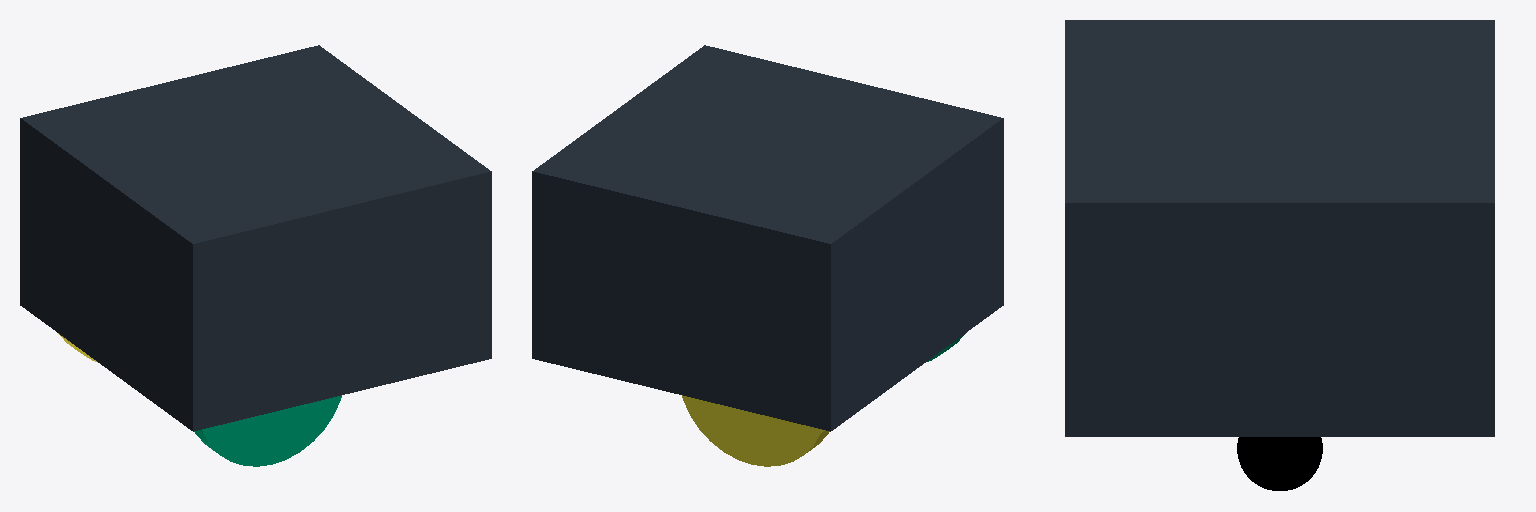
URDF robot description (g_robot):
<?xml version="1.0"?>
<robot name="g_robot" xmlns:xacro="http://www.ros.org/wiki/xacro">
    <material name="black">
        <color rgba="0.0 0.0 0.0 1.0" />
    </material>
    <material name="blue">
        <color rgba="0.203125 0.23828125 0.28515625 1.0" />
    </material>
    <material name="green">
        <color rgba="0.0 0.8 0.0 1.0" />
    </material>
    <material name="grey">
        <color rgba="0.2 0.2 0.2 1.0" />
    </material>
    <material name="orange">
        <color rgba="1.0 0.423529411765 0.0392156862745 1.0" />
    </material>
    <material name="brown">
        <color rgba="0.870588235294 0.811764705882 0.764705882353 1.0" />
    </material>
    <material name="red">
        <color rgba="0.80078125 0.12890625 0.1328125 1.0" />
    </material>
    <material name="white">
        <color rgba="1.0 1.0 1.0 1.0" />
    </material>

    <gazebo reference="chassis_link">
        <material>Gazebo/Orange</material>
    </gazebo>
    <gazebo reference="left_wheel_link">
        <material>Gazebo/Blue</material>
    </gazebo>
    <gazebo reference="right_wheel_link">
        <material>Gazebo/Blue</material>
    </gazebo>
    <gazebo reference="caster_link">
      <material>Gazebo/Black</material>
  </gazebo>

  <gazebo>
      <plugin name="gazebo_ros_control" filename="libgazebo_ros_control.so" />
  </gazebo>

    <!-- TODO: reduce drift -->

    <link name="chassis_link">
        <!-- pose and inertial -->
        <inertial>
            <mass value="10" />
            <origin rpy="0 0 0" xyz="0 0 0.1" />
            <inertia ixx="0.159375" ixy="0" ixz="0" iyy="0.159375" iyz="0" izz="0.234375" />
        </inertial>
        <!-- body -->
        <collision name="collision_chassis">
            <origin rpy="0 0 0" xyz="0 0 0.1" />
            <geometry>
                <box size="0.5 0.5 0.3" />  
            </geometry>
        </collision>
        <visual>
            <origin rpy="0 0 0" xyz="0 0 0.1" />
            <geometry>
                <box size="0.5 0.5 0.3" />
            </geometry>
            <material name="blue" />
        </visual>
    </link>

    <link name="caster_link">
        <inertial>
            <mass value="5" />
            <origin rpy="0 0 0" xyz="0 0 0" />
            <inertia ixx="0.0000382725" ixy="0" ixz="0" iyy="0.0000382725" iyz="0" izz="0.00003815025" />
        </inertial>
        <collision name="caster_collision">
            <origin rpy="0 0 0" xyz="0 0 0" />
            <geometry>
                <sphere radius="0.05" />
            </geometry>
            <surface>
                <friction>
                    <ode>
                        <mu>0</mu>
                        <mu2>0</mu2>
                        <slip1>1.0</slip1>
                        <slip2>1.0</slip2>
                    </ode>
                </friction>
            </surface>
        </collision>
        <visual name="caster_visual">
            <origin rpy="0 0 0" xyz="0 0 0" />
            <geometry>
                <sphere radius="0.05" />
            </geometry>
            <material name="black" />
        </visual>
    </link>

    <joint name="caster_joint" type="fixed">
        <parent link="caster_link" />
        <child link="chassis_link" />
        <origin rpy="0 0 0" xyz="-0.175 0 0.1" />
    </joint>

    <link name="right_wheel_link">
        <inertial>
            <mass value="1" />
            <origin rpy="0 0 0" xyz="0 0 0" />
            <inertia ixx="0.006" ixy="0" ixz="0" iyy="0.01125" iyz="0" izz="0.006" />
        </inertial>
        <collision name="right_wheel_link_collision">
            <origin rpy="0 1.5708 1.5708" xyz="0 0 0" />
            <geometry>
                <cylinder length="0.04" radius="0.125" />
            </geometry>
        </collision>
        <visual name="right_wheel_link_visual">
            <origin rpy="0 1.5708 1.5708" xyz="0 0 0" />
            <geometry>
                <cylinder length="0.04" radius="0.125" />
            </geometry>
        </visual>
    </link>

    <joint name="right_wheel_joint" type="continuous">
        <origin rpy="0 0 0" xyz="-0.1 -0.2 -0.025" />
        <child link="right_wheel_link" />
        <parent link="chassis_link" />
        <axis rpy="0 0 0" xyz="0 1 0" />
        <limit effort="10000" velocity="1000" />
        <joint_properties damping="1.0" friction="1.0" />
    </joint>

    <transmission name="right_wheel_transimssion">
        <type>transmission_interface/SimpleTransmission</type>
        <joint name="right_wheel_joint" >
            <hardwareInterface>hardware_interface/VelocityJointInterface</hardwareInterface>
        </joint>
        <actuator name="right_wheel_actuator">
            <mechanicalReduction>7</mechanicalReduction>
            <hardwareInterface>VelocityJointInterface</hardwareInterface>
        </actuator>
    </transmission>

    <link name="left_wheel_joint">
        <inertial>
            <mass value="1" />
            <origin rpy="0 0 0" xyz="0 0 0" />
            <inertia ixx="0.006" ixy="0" ixz="0" iyy="0.01125" iyz="0" izz="0.006" />
        </inertial>
        <collision name="left_wheel_joint_collision">
            <origin rpy="0 1.5708 1.5708" xyz="0 0 0" />
            <geometry>
                <cylinder length="0.04" radius="0.125" />
            </geometry>
        </collision>
        <visual name="left_wheel_joint_visual">
            <origin rpy="0 1.5708 1.5708" xyz="0 0 0" />
            <geometry>
                <cylinder length="0.04" radius="0.125" />
            </geometry>
        </visual>
    </link>

    <joint name="left_wheel_joint" type="continuous">
        <origin rpy="0 0 0" xyz="-0.1 0.2 -0.025" />
        <child link="left_wheel_joint" />
        <parent link="chassis_link" />
        <axis rpy="0 0 0" xyz="0 1 0" />
        <limit effort="10000" velocity="1000" />
        <joint_properties damping="1.0" friction="1.0" />
    </joint>

    <transmission name="left_wheel_transimssion">
        <type>transmission_interface/SimpleTransmission</type>
        <joint name="left_wheel_joint" >
            <hardwareInterface>hardware_interface/VelocityJointInterface</hardwareInterface>
        </joint>
        <actuator name="left_wheel_actuator">
            <mechanicalReduction>7</mechanicalReduction>
            <hardwareInterface>VelocityJointInterface</hardwareInterface>
        </actuator>
    </transmission>

</robot>

--- Render facts (derived) ---
The picture shows the robot from 3 angles, left to right: view 1: azimuth 30°, elevation 25°; view 2: azimuth 150°, elevation 25°; view 3: azimuth 270°, elevation 25°; orthographic projection.
Model g_robot with 4 links and 3 joints (2 continuous, 1 fixed), rooted at caster_link, posed all joints at 0.
Links seen in each view (by area): view 1: chassis_link, right_wheel_link; view 2: chassis_link, left_wheel_joint; view 3: chassis_link, caster_link.
Link boxes in pixels (x1=…): chassis_link: x1=20, y1=45, x2=491, y2=431; right_wheel_link: x1=194, y1=395, x2=341, y2=466; chassis_link: x1=532, y1=45, x2=1003, y2=431; left_wheel_joint: x1=682, y1=395, x2=829, y2=466; chassis_link: x1=1065, y1=20, x2=1494, y2=436; caster_link: x1=1237, y1=437, x2=1322, y2=490.
Bounding box of the posed robot: 0.5 × 0.5 × 0.4 m (x, y, z).
Geometry: primitives only (box / cylinder / sphere), no mesh files.